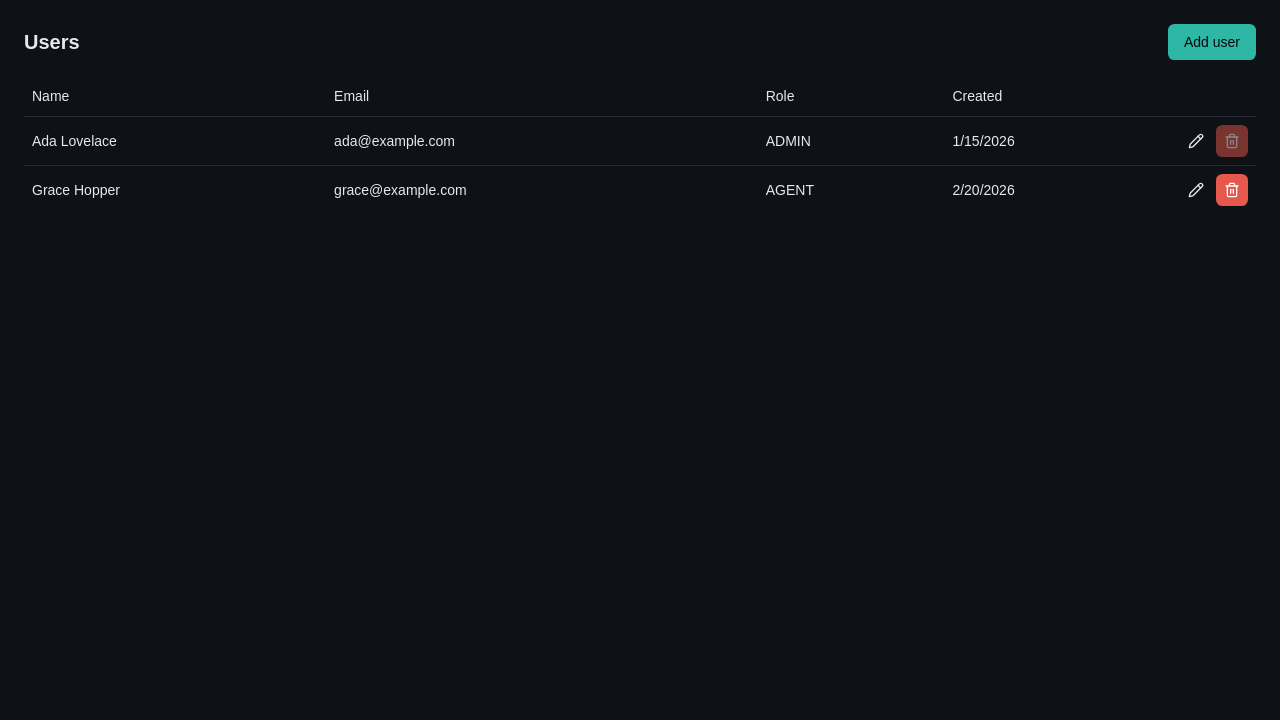
it: Users › edits a user from the row's edit button, prefilled with their data
Expected: the text "Ada Lovelace" is shown, [24, 116, 326, 165]
Click the button named "Edit Ada Lovelace": (1196, 140) [1180, 124, 1212, 156]
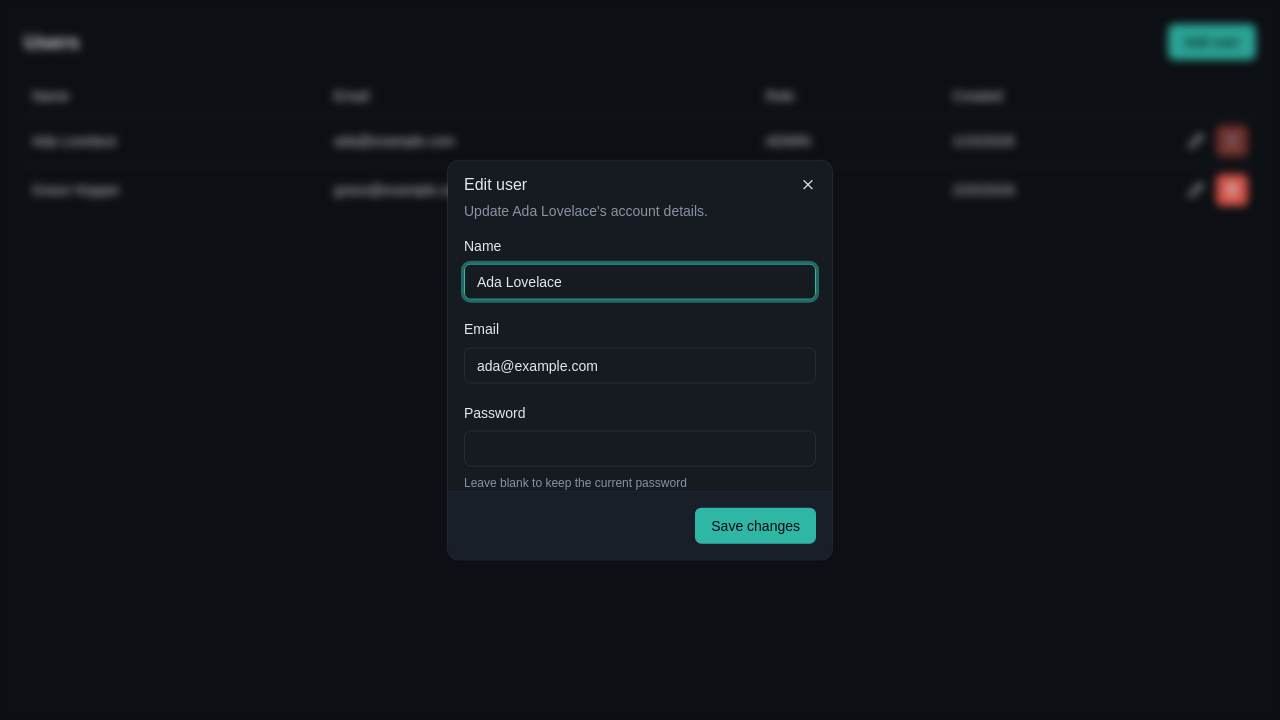
Expected: the heading "Edit user" is shown, [464, 176, 527, 193]
Expected: the field labelled "Name" holds "Ada Lovelace"
Expected: the field labelled "Email" holds "ada@example.com", [464, 347, 816, 383]
Replace the text in the field labelled "Name" with "Ada Byron": (640, 282) [464, 264, 816, 300]
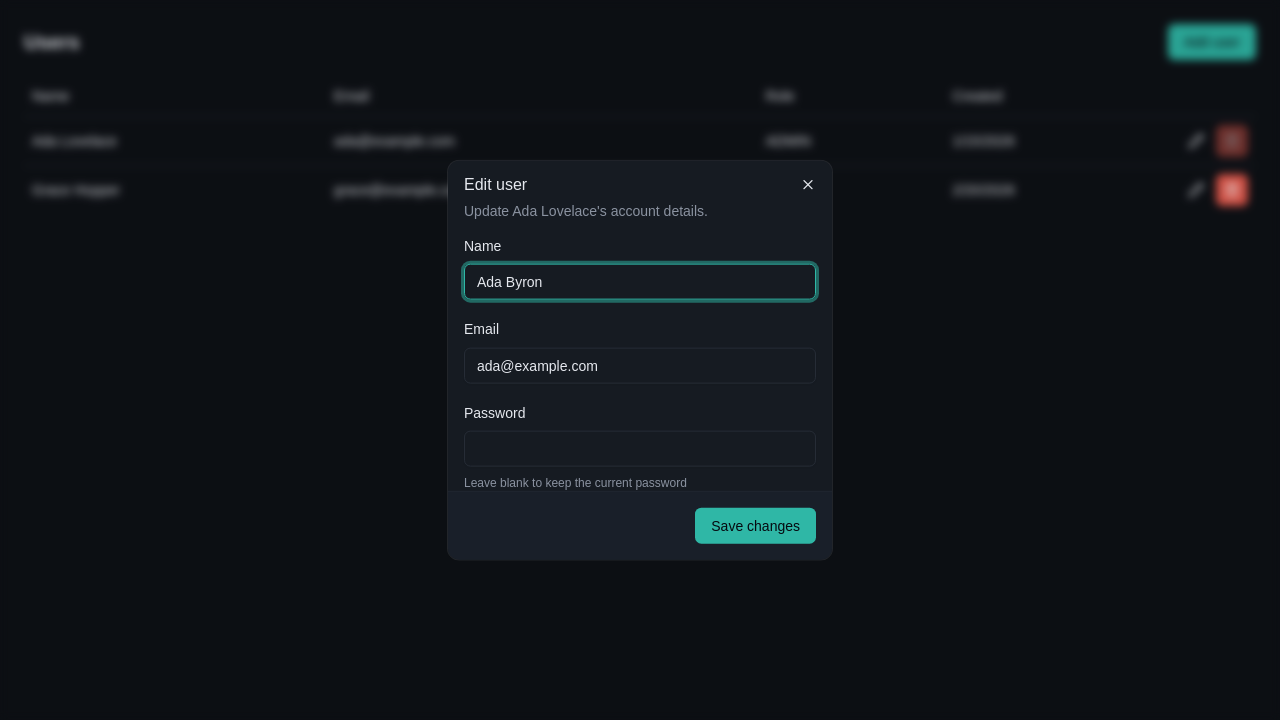
Click the button "Save changes": (756, 525) [695, 507, 816, 543]
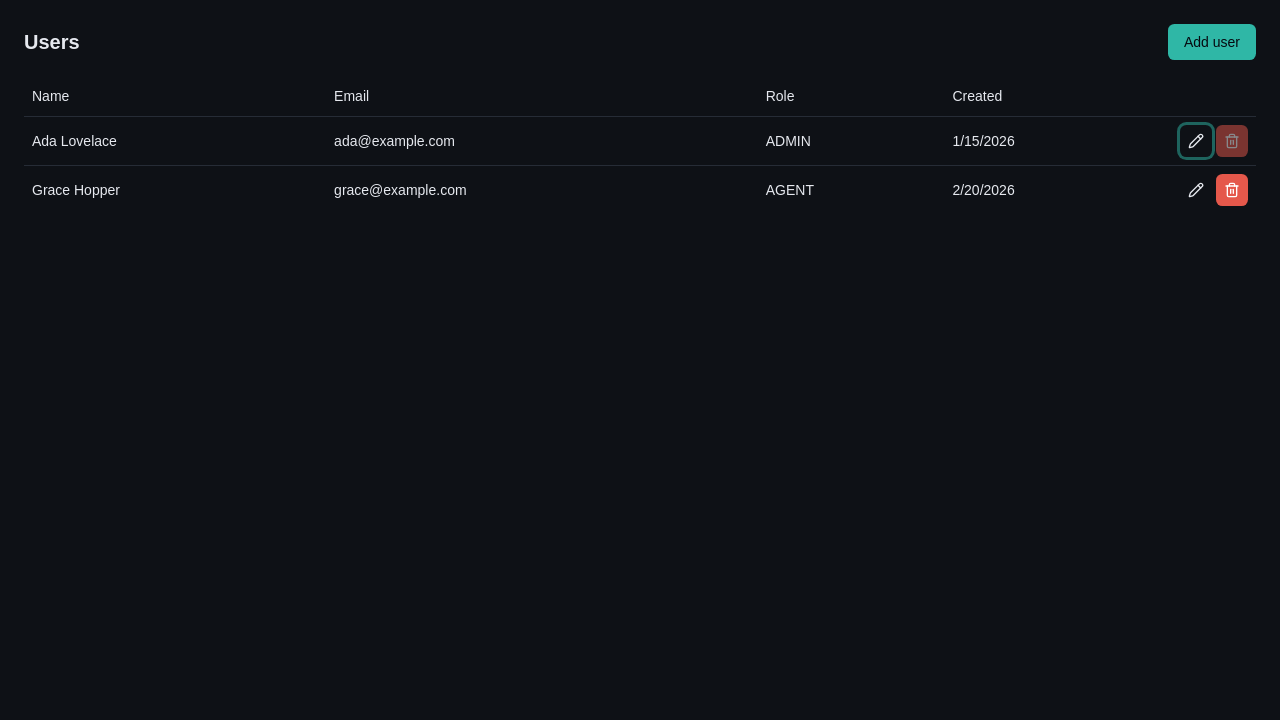
Expected: the dialog is gone
